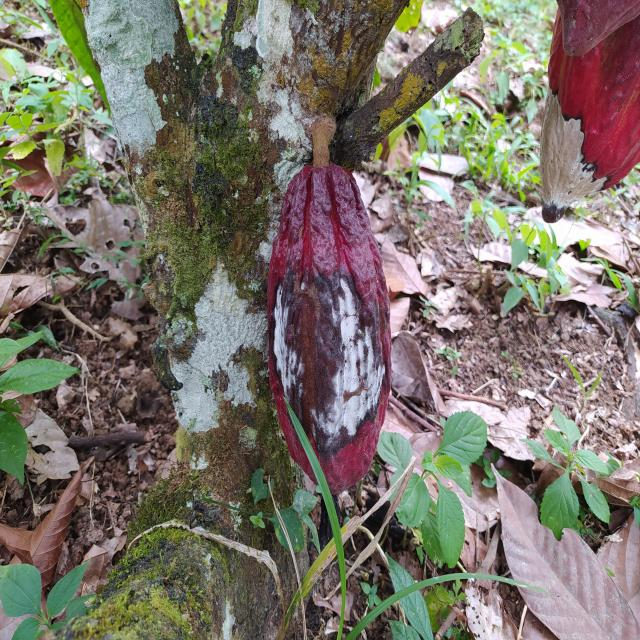Monilia: (264, 163, 396, 497), (539, 1, 640, 226)
Sana: (558, 2, 640, 54)
